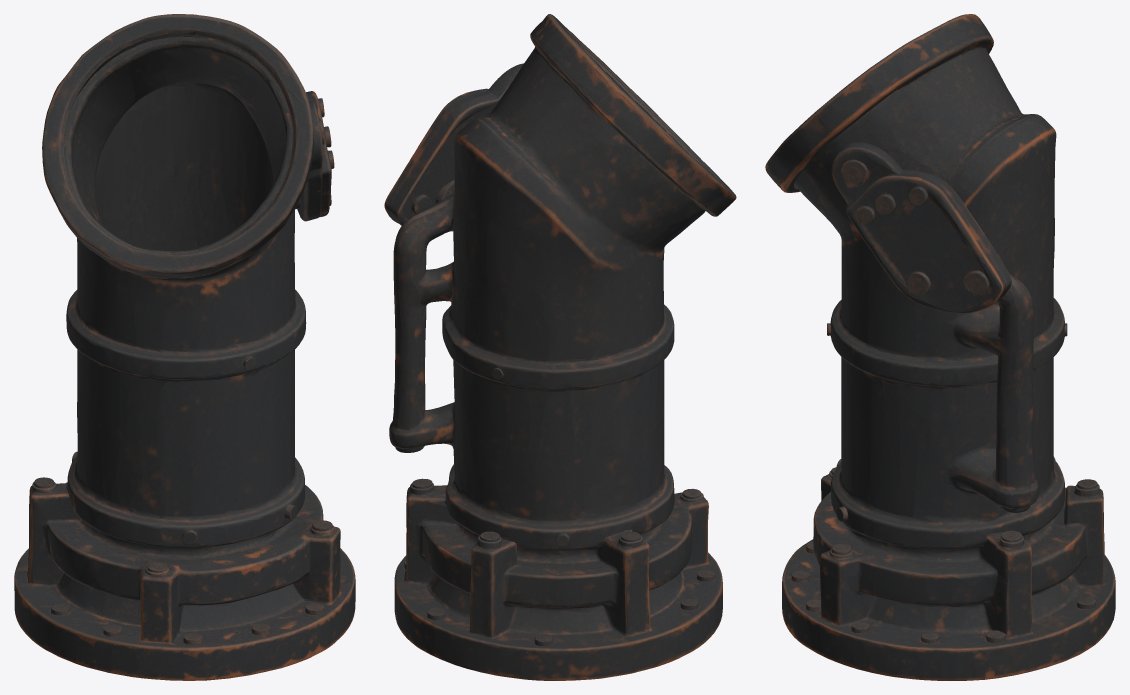
File: steam_vent_nozzle.glb
3 renders of one model, left to right at view 1: azimuth 30°, elevation 25°; view 2: azimuth 150°, elevation 25°; view 3: azimuth 270°, elevation 25°, orthographic. The views are drawn at different scales.
Bounding box in the file's own units: 1.02 × 1.9 × 1.03.
1 material, 1 textured.
